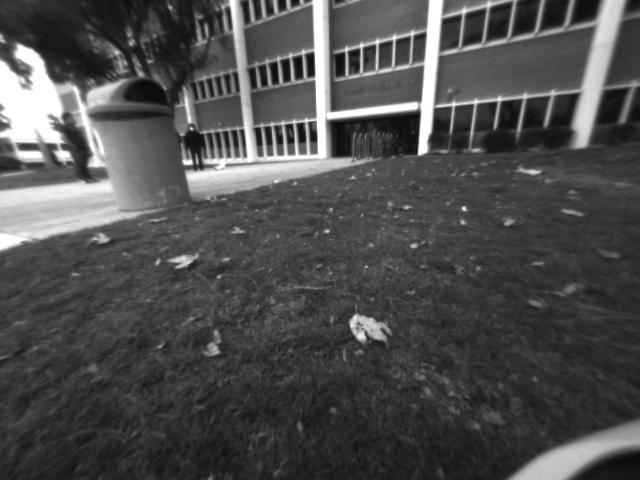trashcan: (77, 68, 205, 226)
